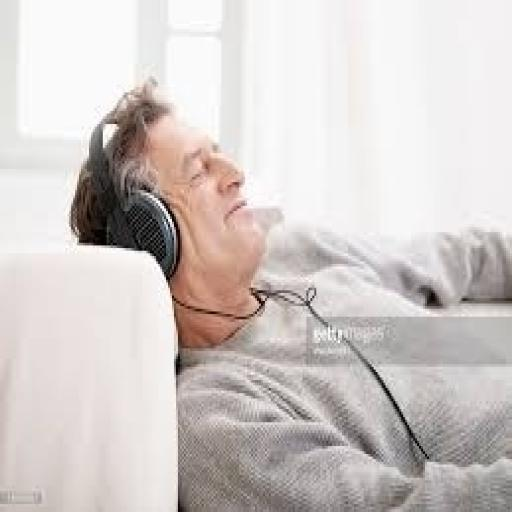listening_to_music: (67, 76, 510, 510)
